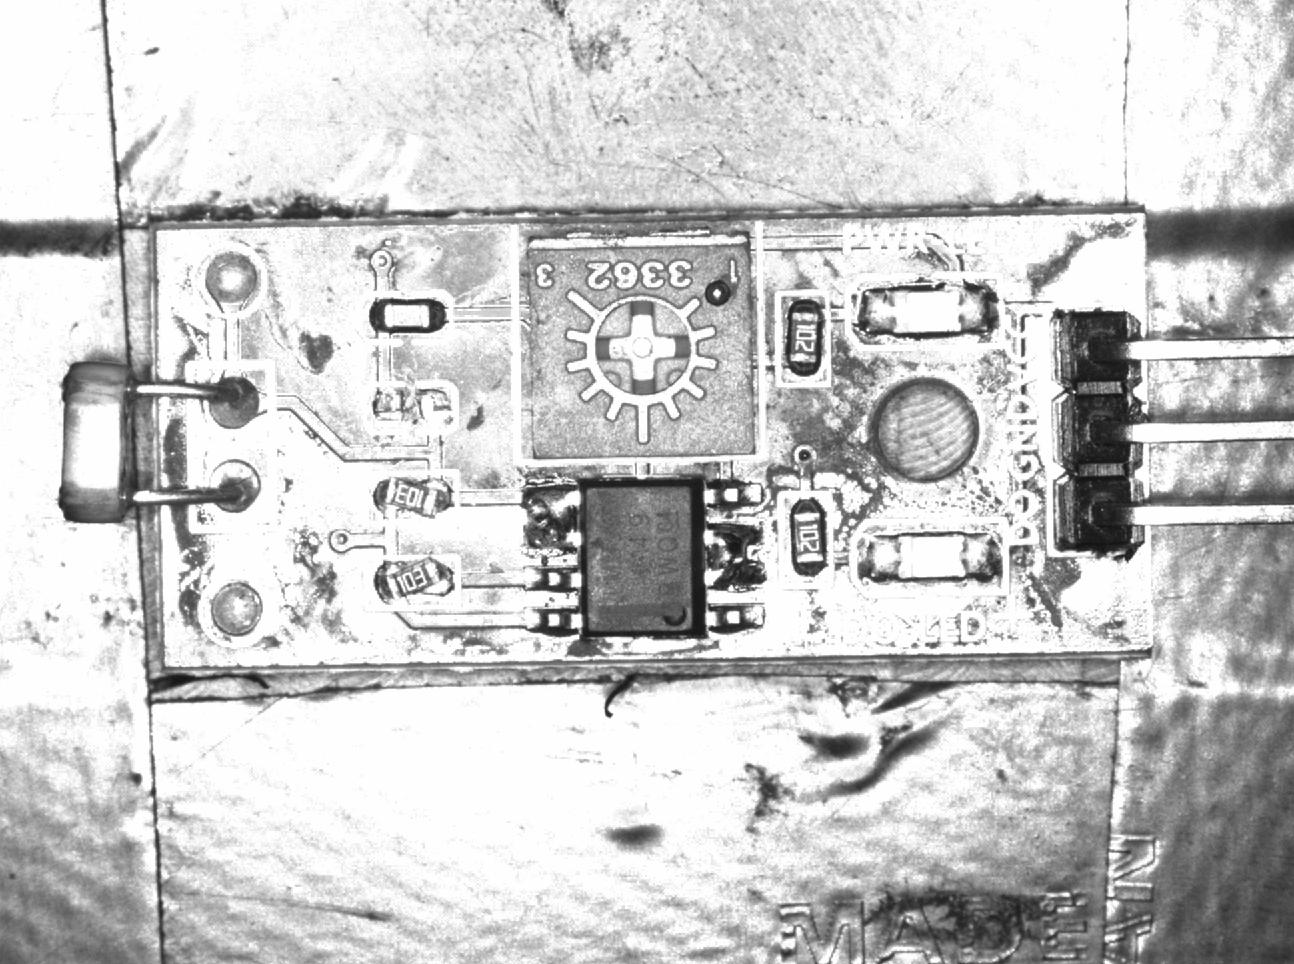bridge: (521, 480, 583, 556), (704, 519, 767, 592)
lifted: (369, 471, 462, 524), (367, 557, 456, 605)
miss: (362, 384, 458, 428)
ok: (775, 292, 833, 388), (781, 494, 834, 585), (362, 293, 453, 336)
